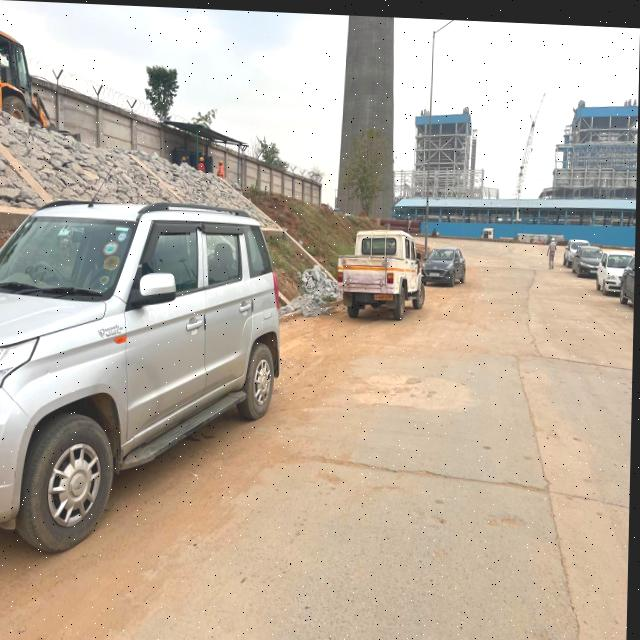car: (0, 175, 295, 587), (336, 209, 430, 357), (421, 238, 469, 285), (597, 240, 634, 291), (574, 236, 605, 276), (619, 247, 636, 300), (563, 231, 584, 260)
